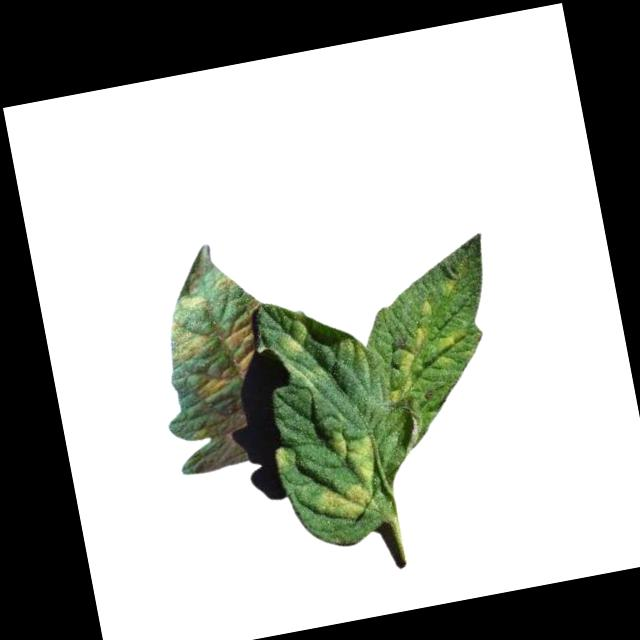Leaf_Mold: (155, 268, 276, 405), (371, 295, 474, 404), (308, 421, 386, 526), (269, 315, 312, 356), (270, 446, 296, 473)
